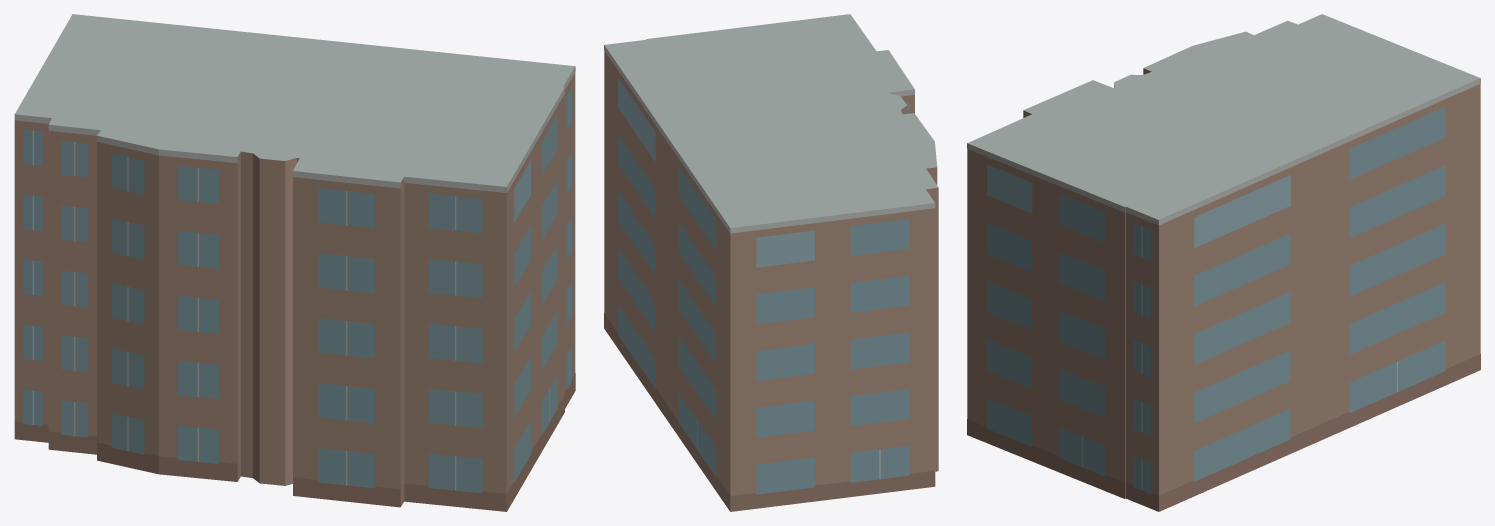
The model's file is survey-upis-32653136.glb.
3 views of the same model, side by side, from view 1: azimuth 30°, elevation 25°; view 2: azimuth 150°, elevation 25°; view 3: azimuth 270°, elevation 25° (orthographic). The views are drawn at different scales.
Visible parts, largest first — view 1: survey-upis-32653136.tmp; view 2: survey-upis-32653136.tmp; view 3: survey-upis-32653136.tmp.
Boxes of the visible parts, x1,y1,x2,y2 form: survey-upis-32653136.tmp: (14, 14, 575, 511); survey-upis-32653136.tmp: (604, 14, 938, 511); survey-upis-32653136.tmp: (967, 14, 1480, 511).
Bounding box in the file's own units: 19.81 × 13.08 × 20.87.
